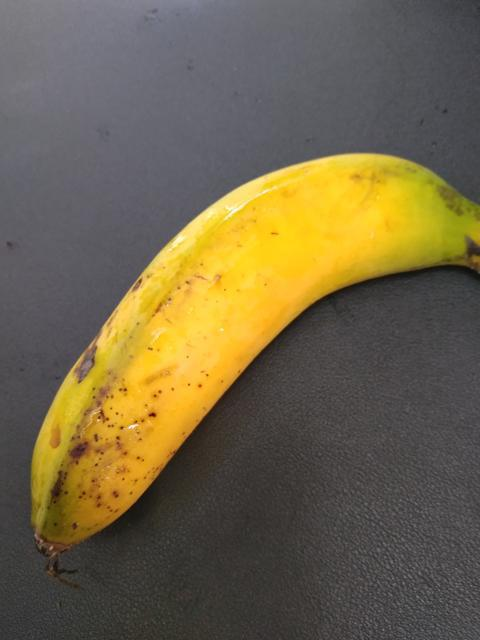ripe: (0, 131, 450, 568)
